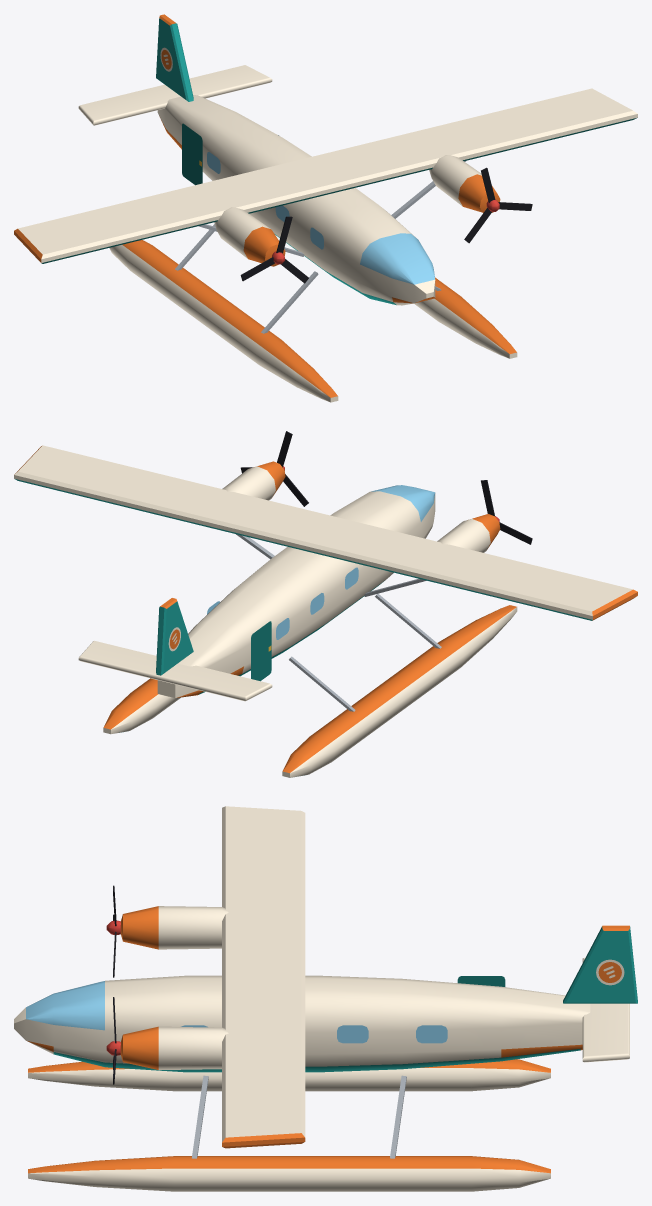
Rendered from Hidroavion.fbx.
The picture shows the model from 3 angles, top to bottom: view 1: azimuth 30°, elevation 25°; view 2: azimuth 150°, elevation 25°; view 3: azimuth 270°, elevation 25°; orthographic projection. The views are drawn at different scales.
Parts seen in each view (by area): view 1: Hidroavion; view 2: Hidroavion; view 3: Hidroavion.
Part boxes in pixels (x1,y1,x2,y2): Hidroavion: (14,14,637,402); Hidroavion: (14,431,637,777); Hidroavion: (14,806,637,1191).
Size of the model in its own units: 40 by 11.8 by 31.5.
Materials: 1 (1 with a texture image).
